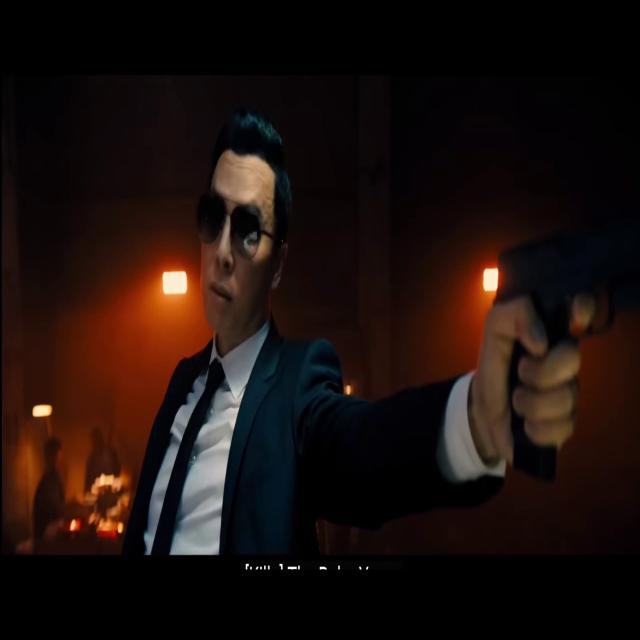weapons: (476, 178, 640, 484)
